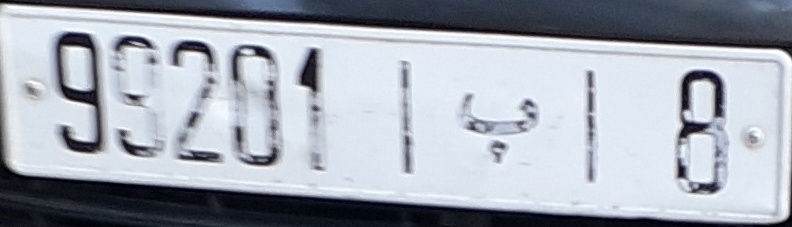0: (224, 39, 284, 168)
1: (292, 43, 332, 176)
2: (168, 36, 226, 167)
8: (671, 66, 734, 198)
9: (108, 35, 168, 163), (50, 28, 107, 156)
b: (455, 85, 545, 168)
